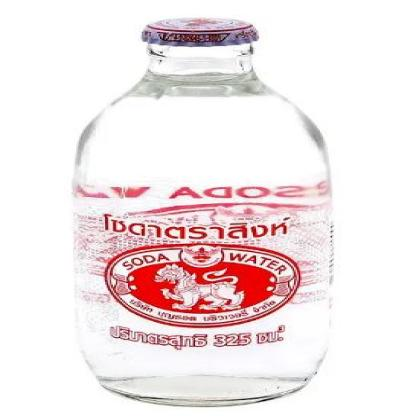Can: (72, 16, 334, 408)
